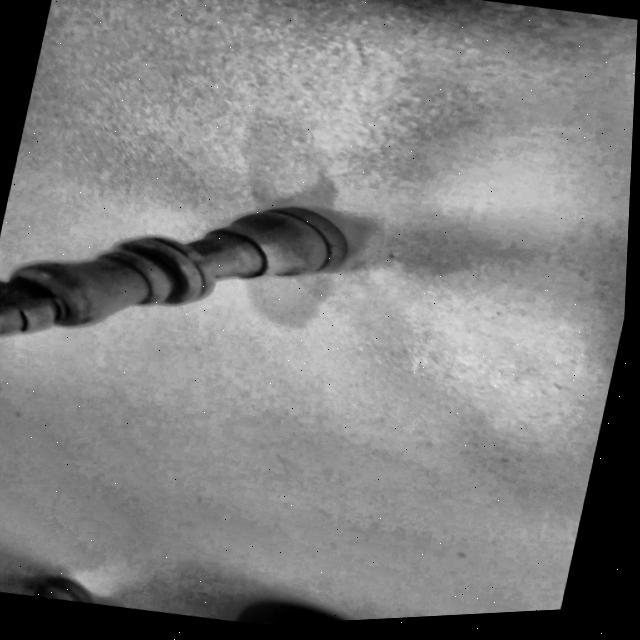white-king: (0, 116, 397, 428)
